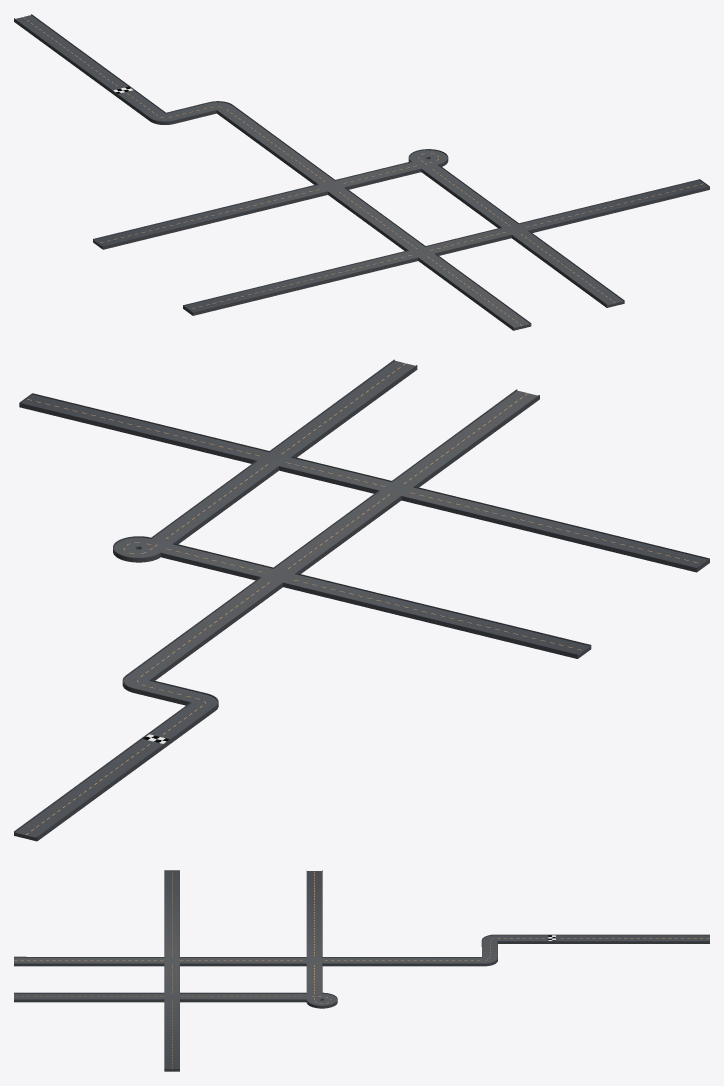
Rendered from Path2Revize.fbx.
The picture shows the model from 3 angles, top to bottom: view 1: azimuth 30°, elevation 25°; view 2: azimuth 150°, elevation 25°; view 3: azimuth 270°, elevation 25°; orthographic projection. The views are drawn at different scales.
Parts seen in each view (by area): view 1: Plane.011; view 2: Plane.011; view 3: Plane.011.
Part boxes in pixels (x1,y1,x2,y2): Plane.011: [14, 14, 709, 330]; Plane.011: [14, 359, 709, 841]; Plane.011: [14, 870, 709, 1071].
Size of the model in its own units: 9368 by 58.87 by 13854.
